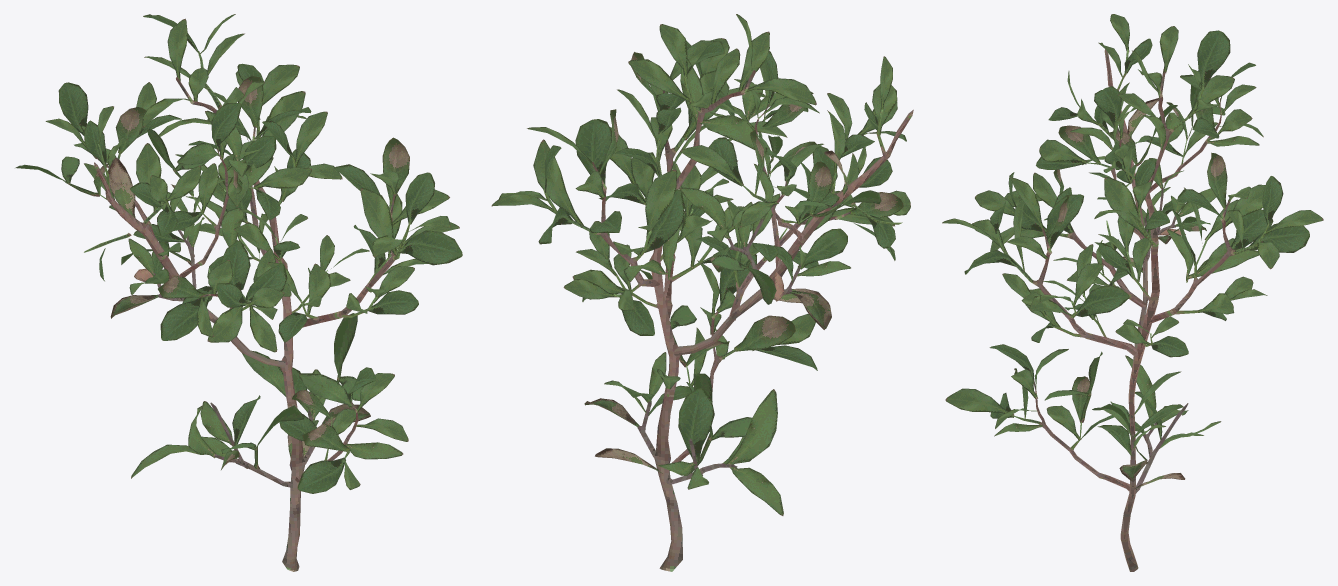
Rendered from natural-leafy-berries-weathered-depleted.glb.
The picture shows the model from 3 angles, left to right: view 1: azimuth 30°, elevation 25°; view 2: azimuth 150°, elevation 25°; view 3: azimuth 270°, elevation 25°; orthographic projection. The views are drawn at different scales.
Parts seen in each view (by area): view 1: natural-leafy-berries-weathered-depleted runtime mesh; view 2: natural-leafy-berries-weathered-depleted runtime mesh; view 3: natural-leafy-berries-weathered-depleted runtime mesh.
Part boxes in pixels (left/top/right/bottom): natural-leafy-berries-weathered-depleted runtime mesh: left=15, top=14, right=462, bottom=571; natural-leafy-berries-weathered-depleted runtime mesh: left=491, top=14, right=913, bottom=571; natural-leafy-berries-weathered-depleted runtime mesh: left=942, top=14, right=1323, bottom=571.
Size of the model in its own units: 0.7006 by 1.05 by 0.7176.
1 material, 1 textured.
